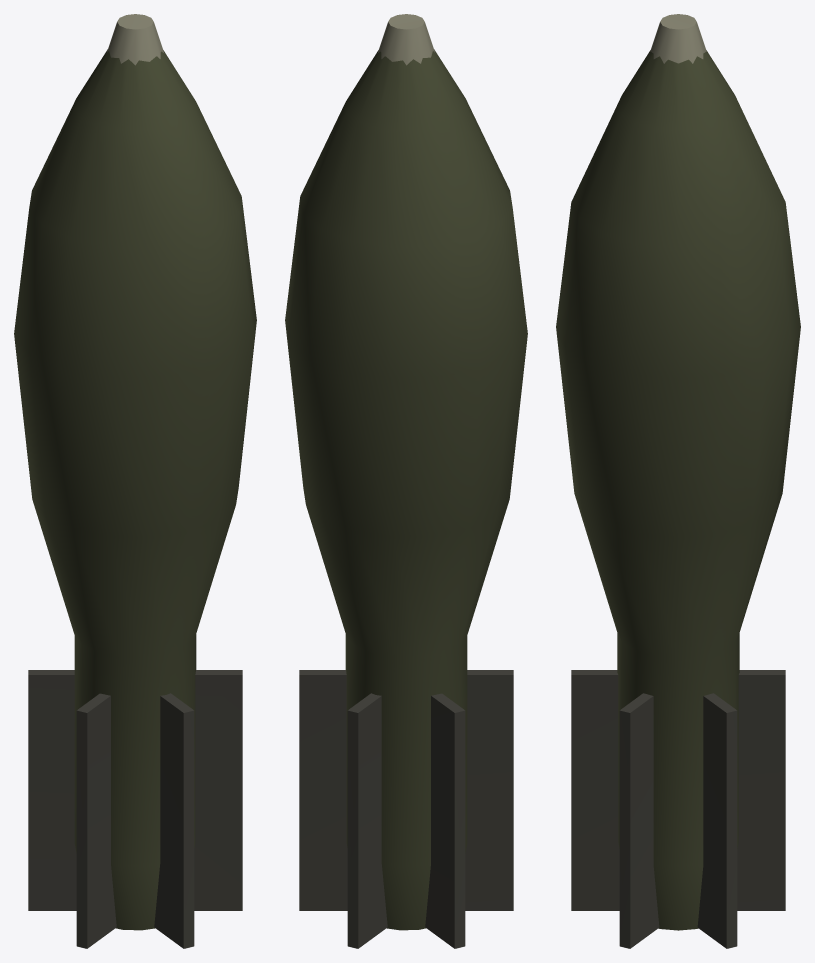
Rendered from round.glb.
3 renders of one model, left to right at view 1: azimuth 30°, elevation 25°; view 2: azimuth 150°, elevation 25°; view 3: azimuth 270°, elevation 25°, orthographic.
Visible parts, largest first — view 1: MortarRound_Darkolivepaint, MortarRound_Darkiron, MortarRound_Rubbedsteel; view 2: MortarRound_Darkolivepaint, MortarRound_Darkiron, MortarRound_Rubbedsteel; view 3: MortarRound_Darkolivepaint, MortarRound_Darkiron, MortarRound_Rubbedsteel.
Part boxes in pixels (left/top/right/bottom): MortarRound_Darkolivepaint: left=14, top=49, right=256, bottom=930; MortarRound_Darkiron: left=28, top=670, right=242, bottom=948; MortarRound_Rubbedsteel: left=107, top=14, right=163, bottom=65; MortarRound_Darkolivepaint: left=285, top=49, right=527, bottom=930; MortarRound_Darkiron: left=299, top=670, right=513, bottom=948; MortarRound_Rubbedsteel: left=378, top=14, right=434, bottom=65; MortarRound_Darkolivepaint: left=556, top=50, right=800, bottom=930; MortarRound_Darkiron: left=571, top=670, right=785, bottom=948; MortarRound_Rubbedsteel: left=650, top=14, right=706, bottom=63.
Bounding box in the file's own units: 0.08 × 0.32 × 0.08.
